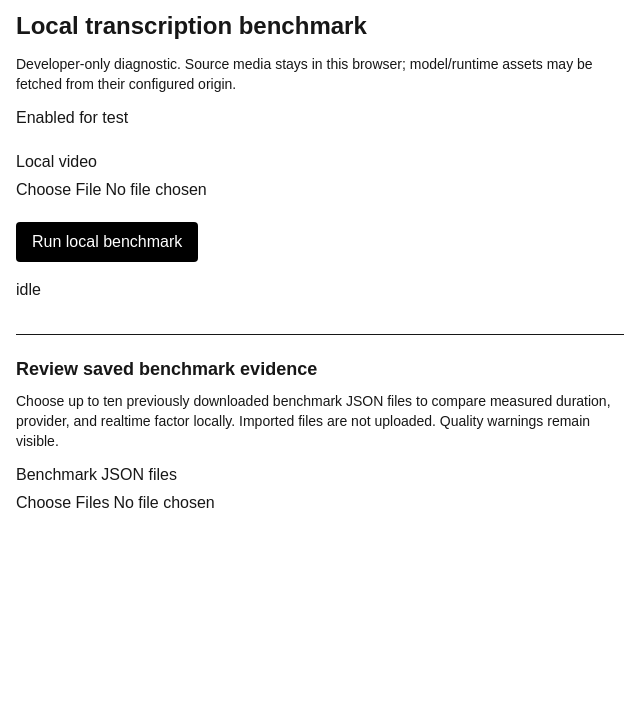
local transcription benchmark evidence lifecycle › disables source changes during a run and clears stale result when a new file is selected
The width and height of the screenshot is (641, 725).
Earlier steps of the test are not shown.
Later steps or results of the test are not shown.
Click the button "Run local benchmark" at x=107, y=242, box [16,222,198,262]
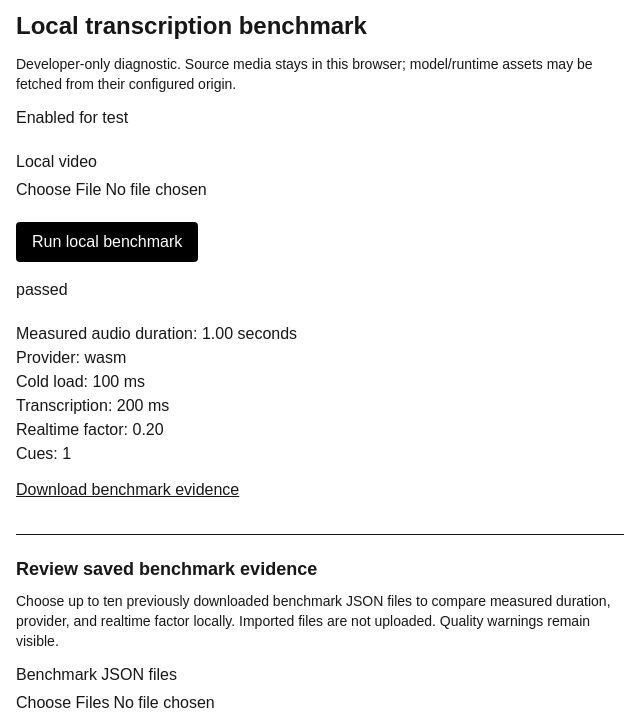
Expected: the file field labelled "Local video" is enabled, [16,178,319,202]
Now the button "Download benchmark evidence" is enabled, box [16,478,239,502]
